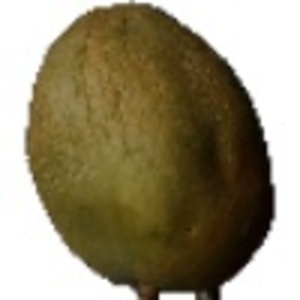mamão: (15, 3, 283, 289)
